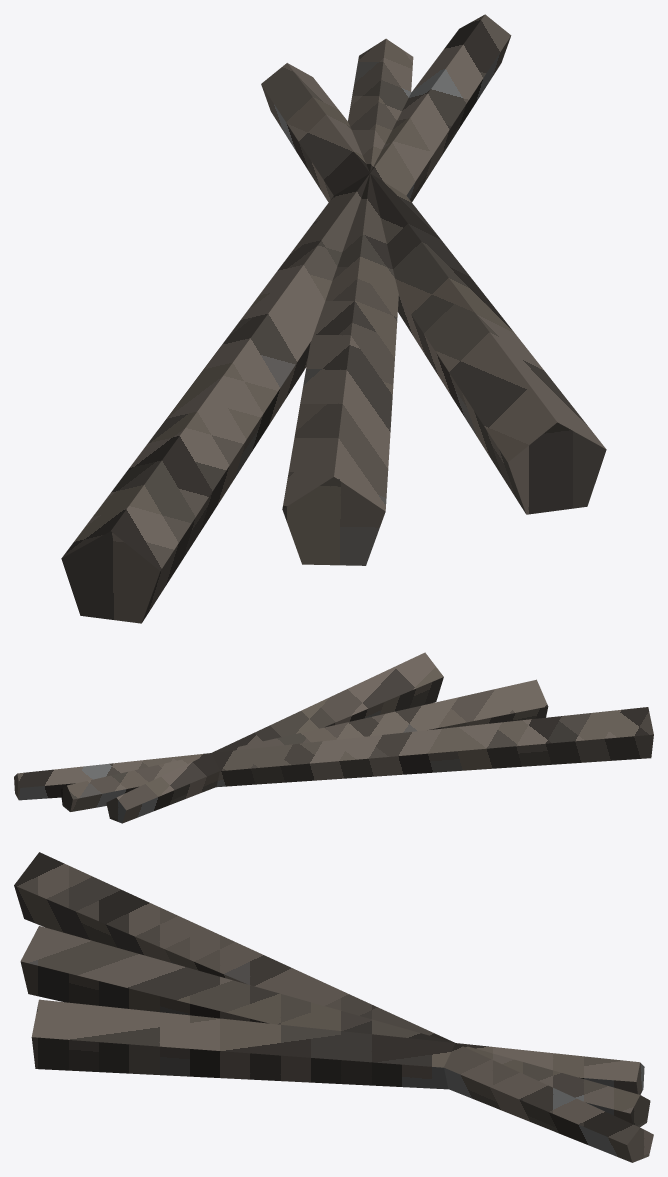
The model's file is enfeite_raiz_chao.fbx.
3 views of the same model, one above another, from view 1: azimuth 30°, elevation 25°; view 2: azimuth 150°, elevation 25°; view 3: azimuth 270°, elevation 25° (orthographic). The views are drawn at different scales.
Visible parts, largest first — view 1: neve_enfeite_raiz_chao; view 2: neve_enfeite_raiz_chao; view 3: neve_enfeite_raiz_chao.
Boxes of the visible parts, x1=… form: neve_enfeite_raiz_chao: x1=61, y1=14, x2=606, y2=623; neve_enfeite_raiz_chao: x1=14, y1=652, x2=653, y2=823; neve_enfeite_raiz_chao: x1=14, y1=852, x2=653, y2=1162.
Size of the model in its own units: 34.89 by 3.44 by 33.01.
1 material, 1 textured.
